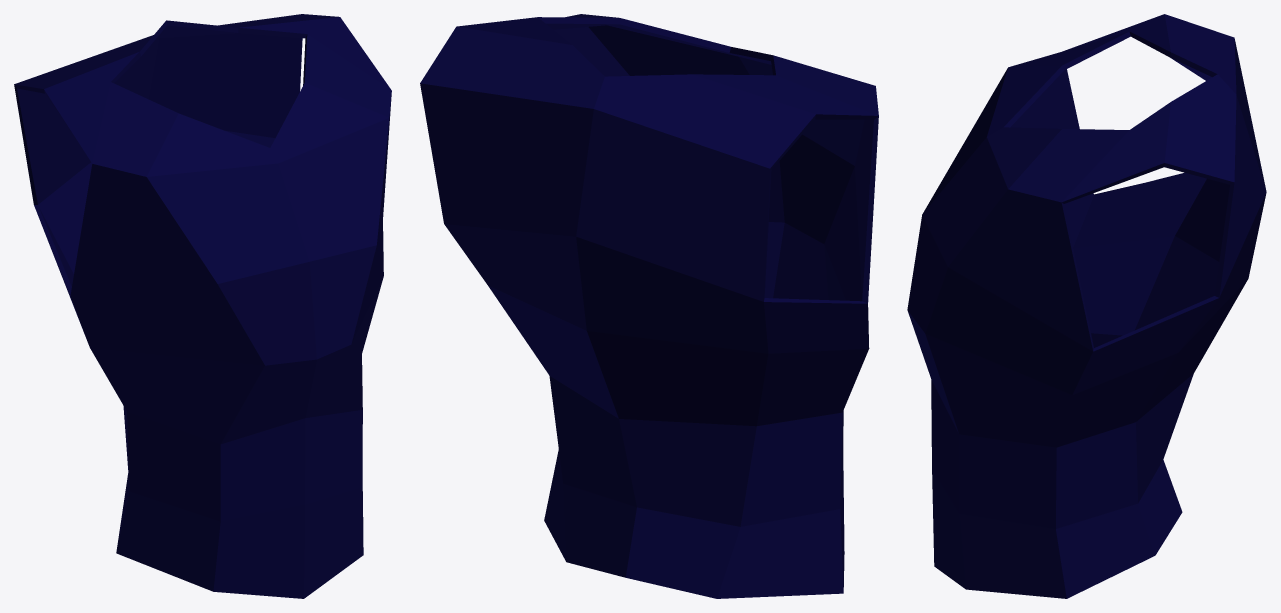
The model's file is Char-model_Male-CT2.fbx.
3 views of the same model, side by side, from view 1: azimuth 30°, elevation 25°; view 2: azimuth 150°, elevation 25°; view 3: azimuth 270°, elevation 25° (orthographic). The views are drawn at different scales.
Parts seen in each view (by area): view 1: Clothes-Top.2; view 2: Clothes-Top.2; view 3: Clothes-Top.2.
Boxes of the visible parts, <box> form: Clothes-Top.2: <box>14,14,391,598</box>; Clothes-Top.2: <box>420,14,878,598</box>; Clothes-Top.2: <box>907,14,1266,598</box>.
Bounding box in the file's own units: 342 × 499 × 330.
